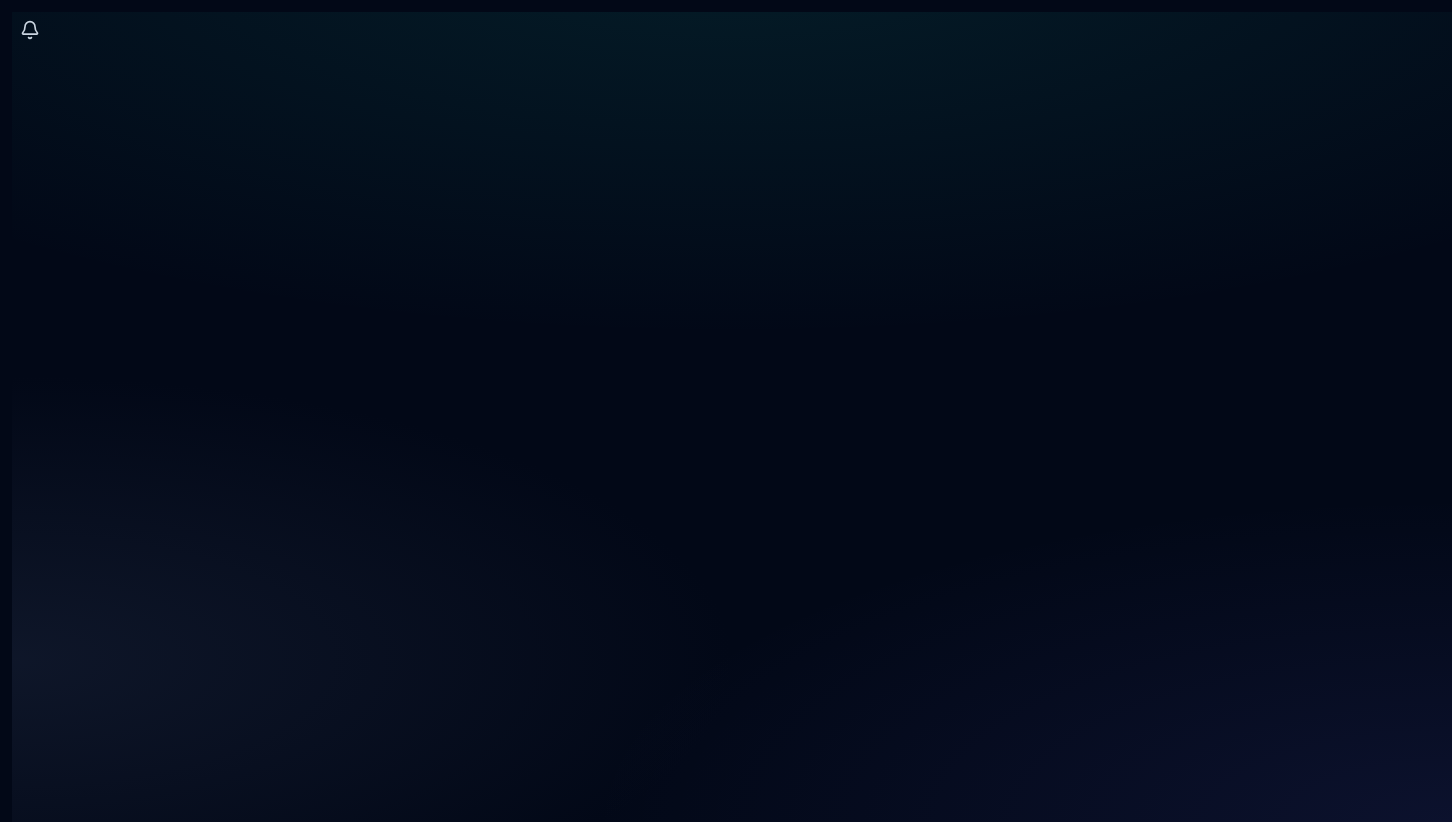
Scenario: failed notification fetch is visible rather than a false no-notifications success
This screenshot has width=1452, height=822.
Click the button.
click(30, 30)  # box [12, 12, 48, 48]
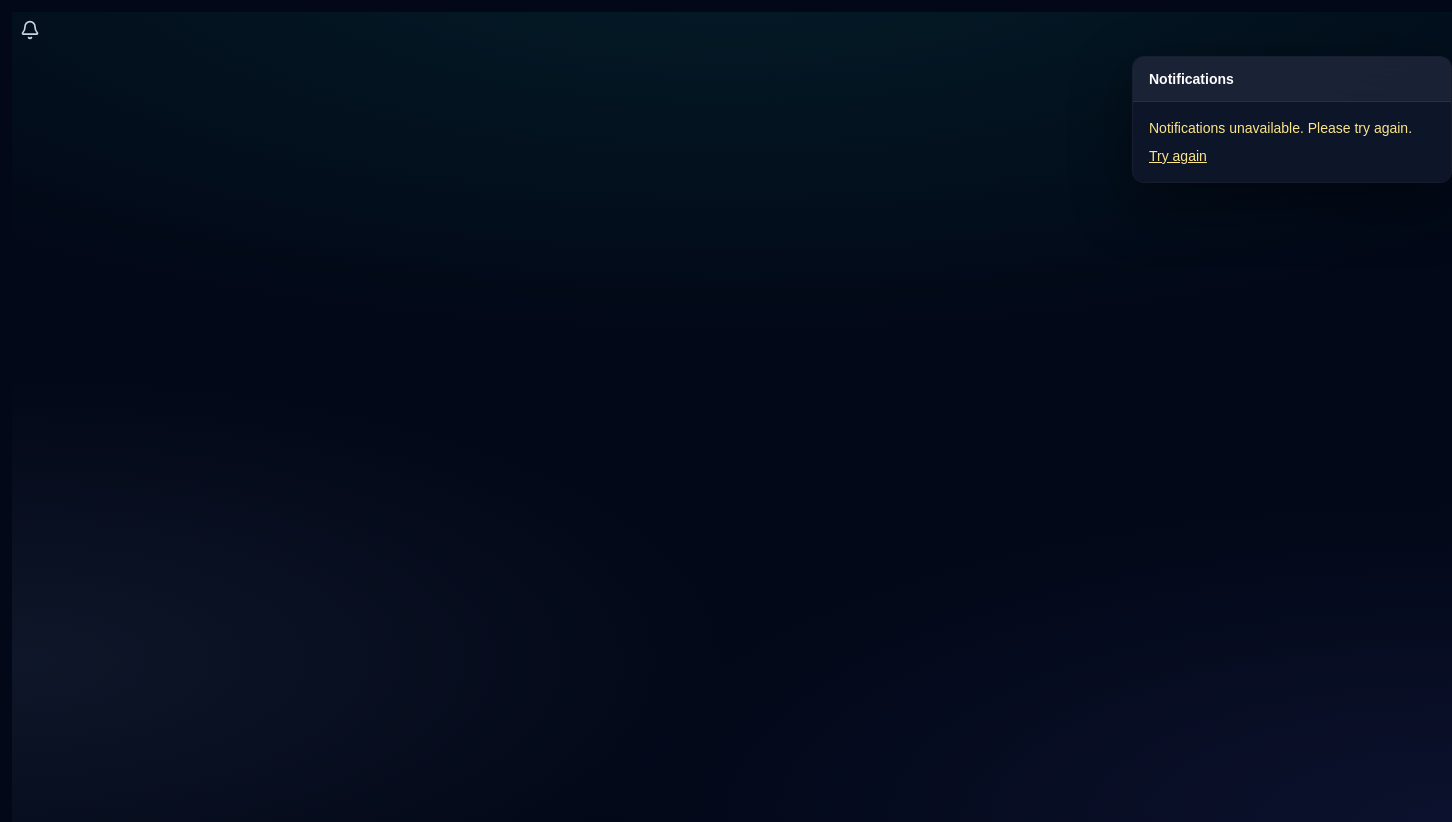
Expected: the message "Notifications unavailable. Please try again. Try again" is shown, [1149, 120, 1412, 166]
